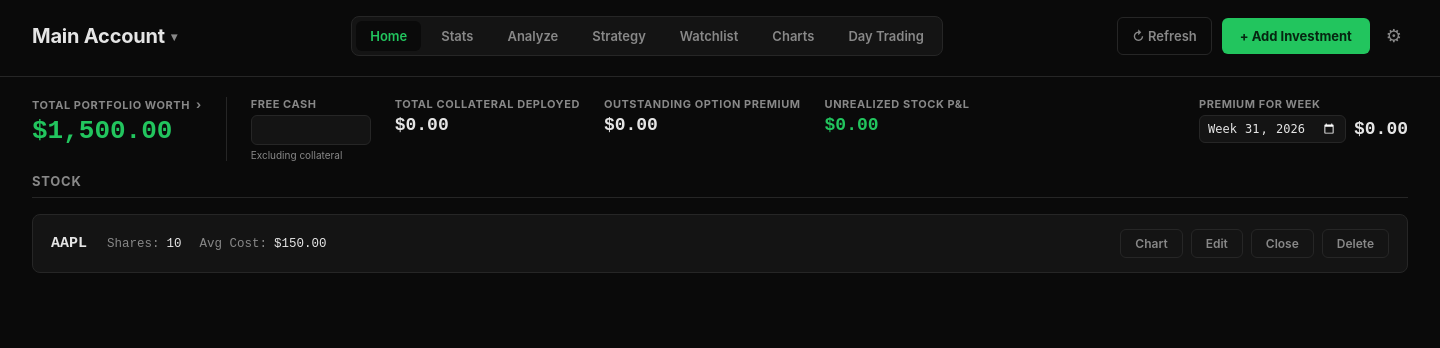
it: InvestmentsPage › shows a missing-key message and does not fetch when Refresh is clicked with no key
Click the button "↻ Refresh" at x=1164, y=36, box [1117,17,1212,55]
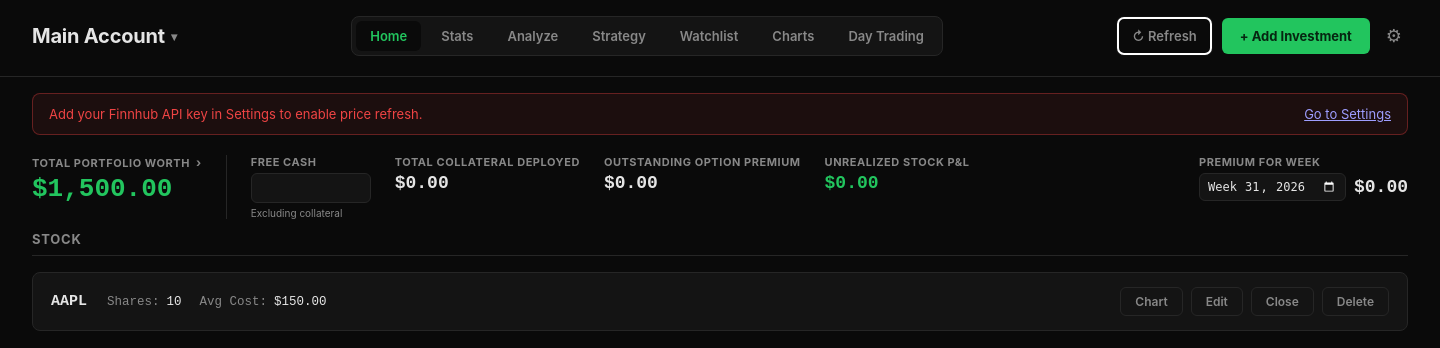
Expected: the text "Add your Finnhub API key" is shown, [49,106,422,122]
